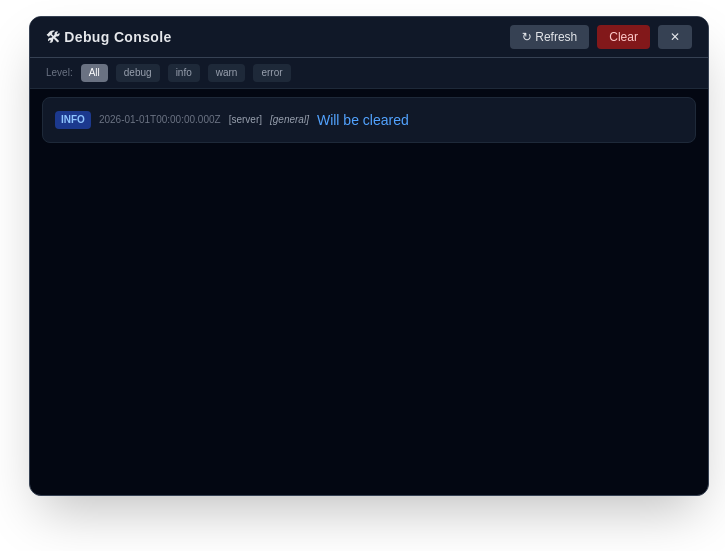
Scenario: DebugPanel › clears entries when Clear is clicked
Expected: the text "Will be cleared" is shown, [317,112,409,128]
Click the button "Clear": coordinates (624, 37) [597,25,650,49]
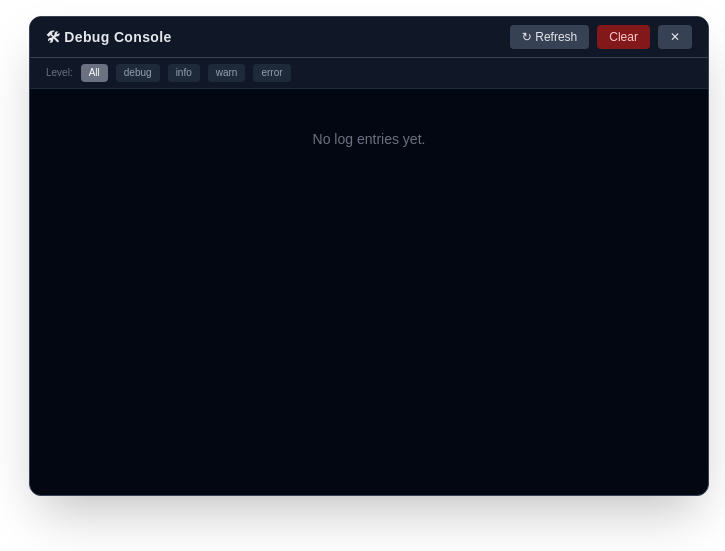
Now the text "No log entries yet." is shown, box [313,131,425,147]
